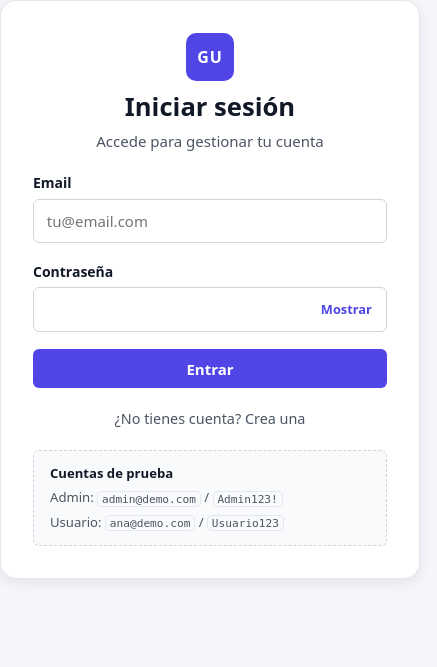
Vista LoginView.vue › con error del servidor muestra la alerta de error
The image size is (437, 667).
Type "admin@demo.com" into the field with test id "login-email".
click(210, 221); type("admin@demo.com")  # box 33,199 -> 387,243
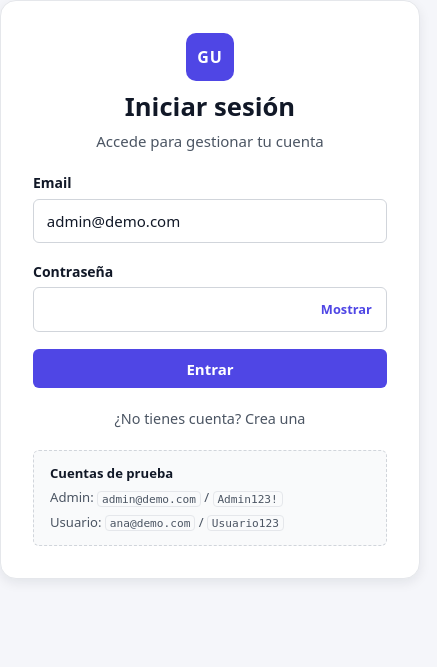
Type "Incorrecta123" into the password field with test id "login-password".
click(210, 310); type("Incorrecta123")  # box 33,287 -> 387,332
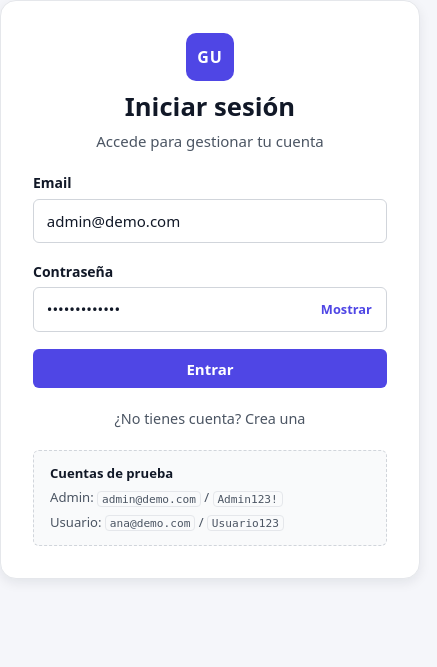
Submit the form with test id "login-form", box 33,172 -> 387,388
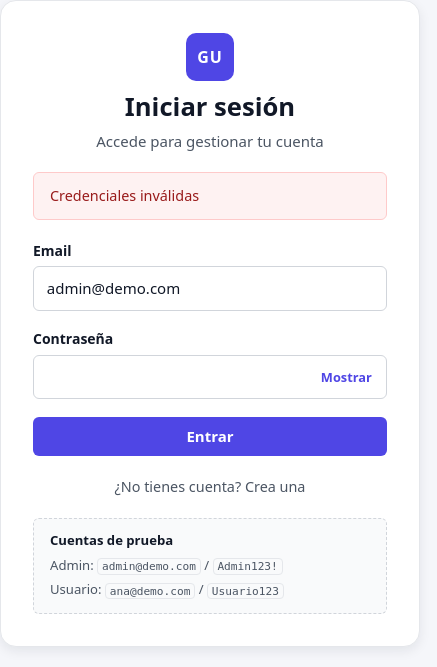
Now the message "Credenciales inválidas" is shown, box 33,172 -> 387,220
Now the message with test id "alert" reads "Credenciales inválidas", box 50,186 -> 199,205
